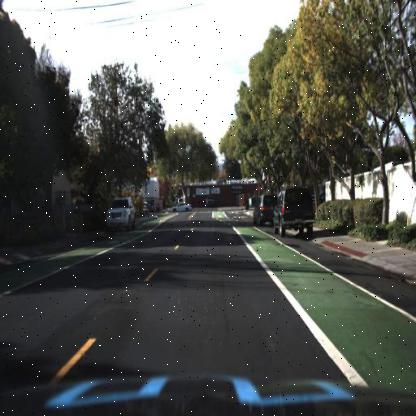car: (272, 185, 316, 239), (101, 192, 136, 232), (246, 193, 275, 225), (169, 197, 192, 213)
